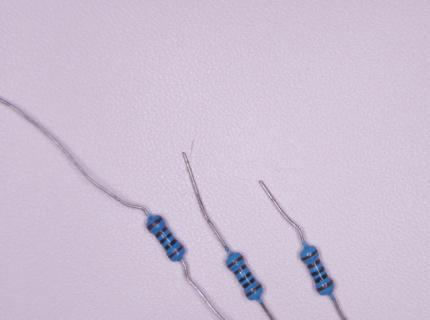Black band: (164, 238, 178, 251), (239, 271, 252, 284), (242, 277, 256, 289), (159, 232, 172, 244), (311, 266, 325, 277), (314, 273, 328, 284)
Brown band: (245, 283, 262, 297), (147, 217, 163, 231), (168, 245, 184, 259), (227, 255, 243, 269), (316, 279, 333, 292), (301, 249, 318, 261), (155, 226, 168, 238), (234, 264, 248, 275), (307, 259, 321, 269)
